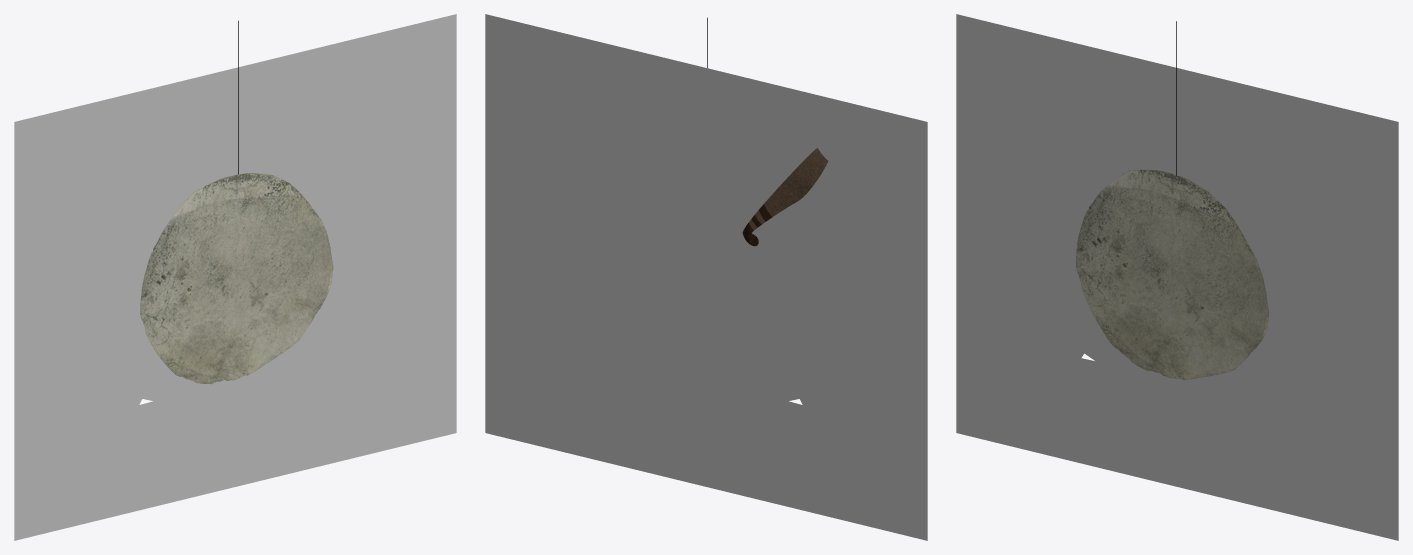
File: luna.FBX
3 renders of one model, left to right at view 1: azimuth 30°, elevation 25°; view 2: azimuth 150°, elevation 25°; view 3: azimuth 330°, elevation 25°, orthographic.
Parts seen in each view (by area): view 1: forat, lluna; view 2: forat, patita; view 3: forat, lluna.
Part boxes in pixels (x1,y1,x2,y2): forat: (14, 14, 456, 540); lluna: (140, 173, 333, 384); forat: (485, 14, 927, 540); patita: (742, 148, 828, 246); forat: (956, 14, 1398, 540); lluna: (1076, 169, 1268, 379).
Bounding box in the file's own units: 40.52 × 3.01 × 40.89.
Materials: 4 (2 with a texture image).
